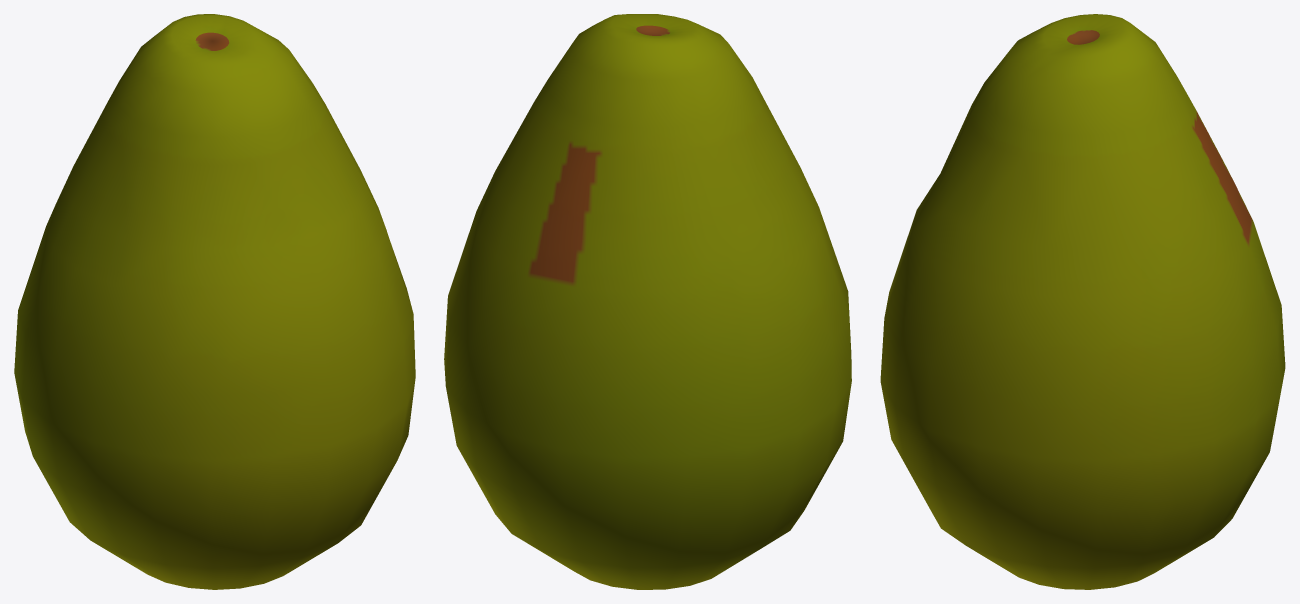
Rendered from Avacado.fbx.
3 renders of one model, left to right at view 1: azimuth 30°, elevation 25°; view 2: azimuth 150°, elevation 25°; view 3: azimuth 270°, elevation 25°, orthographic. The views are drawn at different scales.
Parts seen in each view (by area): view 1: Avacado; view 2: Avacado; view 3: Avacado.
Boxes of the visible parts, x1,y1,x2,y2 form: Avacado: [14, 14, 415, 589]; Avacado: [444, 14, 851, 589]; Avacado: [880, 14, 1285, 589].
Size of the model in its own units: 131 by 193 by 131.
Materials: 1 (1 with a texture image).
